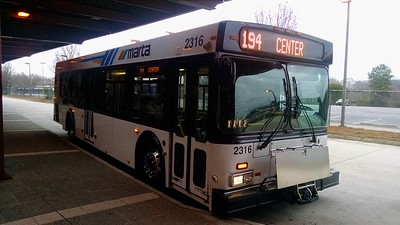bus: (52, 20, 339, 215)
